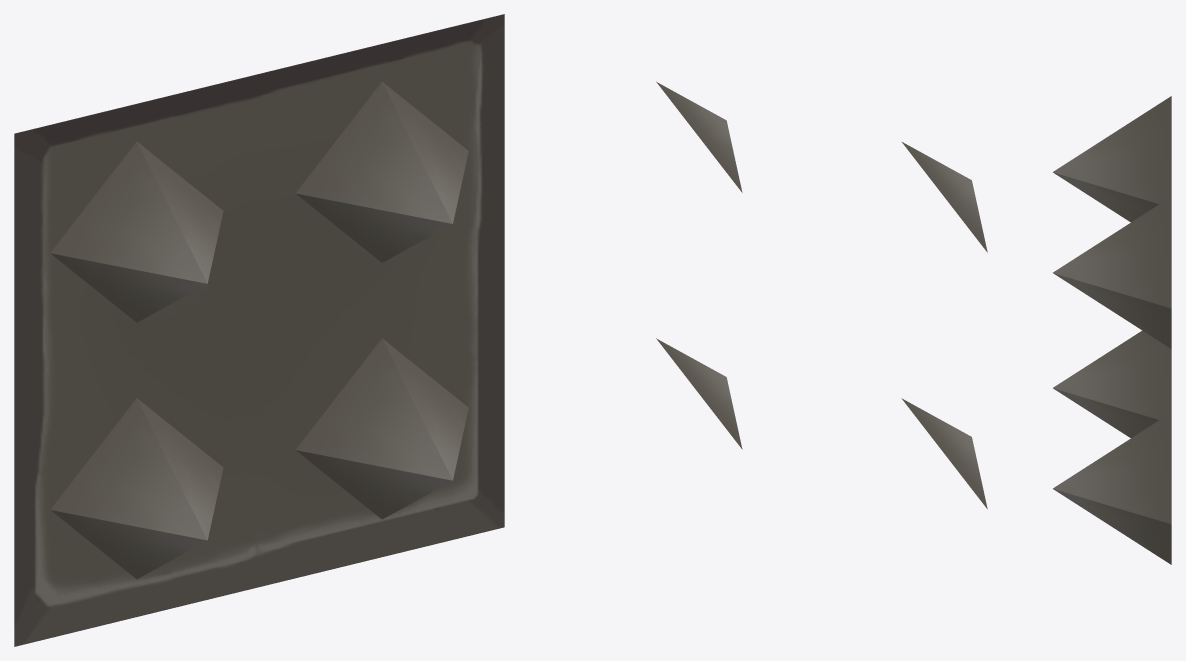
The model's file is hazard_ironspikes.glb.
3 views of the same model, side by side, from view 1: azimuth 30°, elevation 25°; view 2: azimuth 150°, elevation 25°; view 3: azimuth 270°, elevation 25° (orthographic). The views are drawn at different scales.
Parts seen in each view (by area): view 1: traps_n_hazards.hazard_ironspikes-Mesh[0]; view 2: traps_n_hazards.hazard_ironspikes-Mesh[0]; view 3: traps_n_hazards.hazard_ironspikes-Mesh[0].
Boxes of the visible parts, x1=… form: traps_n_hazards.hazard_ironspikes-Mesh[0]: x1=14, y1=14, x2=504, y2=646; traps_n_hazards.hazard_ironspikes-Mesh[0]: x1=656, y1=81, x2=987, y2=509; traps_n_hazards.hazard_ironspikes-Mesh[0]: x1=1053, y1=96, x2=1171, y2=564.
Bounding box in the file's own units: 1 × 1 × 0.25.
Materials: 1 (1 with a texture image).
